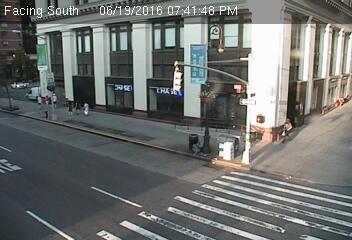neg: (241, 36, 267, 71), (324, 22, 349, 56), (35, 44, 56, 71), (201, 46, 221, 73), (13, 44, 32, 69), (161, 67, 180, 91)
pos: (277, 115, 297, 143), (80, 100, 93, 117), (60, 98, 73, 115), (47, 92, 60, 109), (39, 99, 51, 115)
